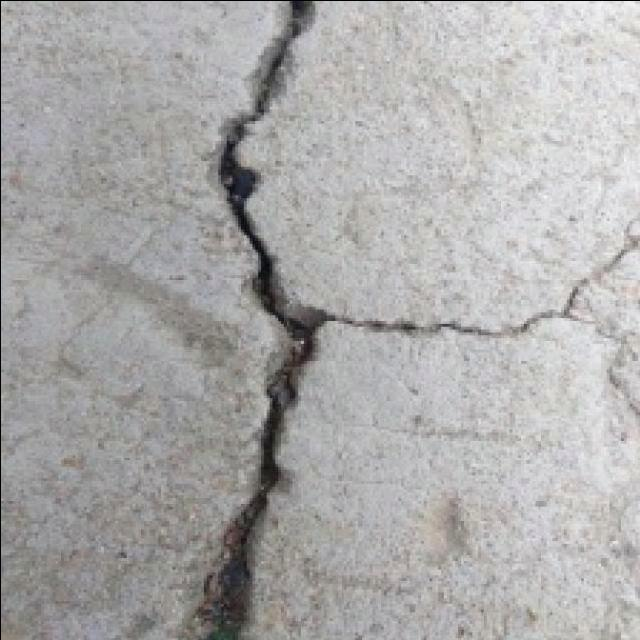SurfaceCrack: (152, 0, 362, 640)
